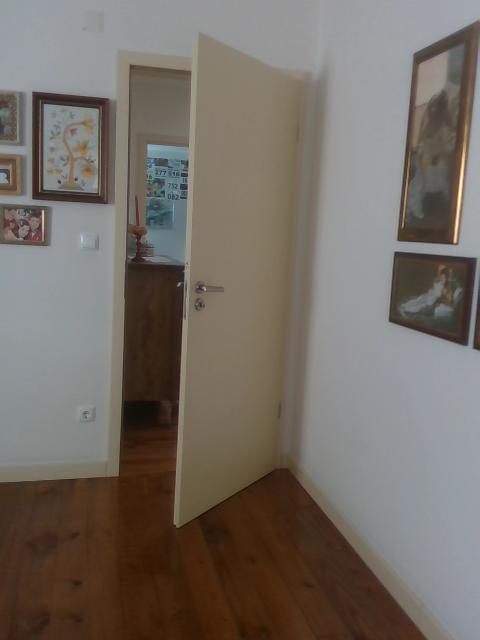semi_door: (112, 28, 307, 531)
